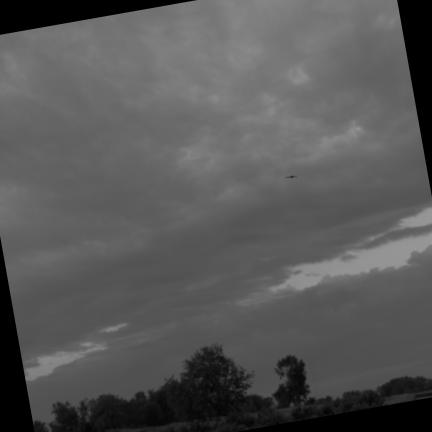Shahed: (287, 176, 297, 178)
